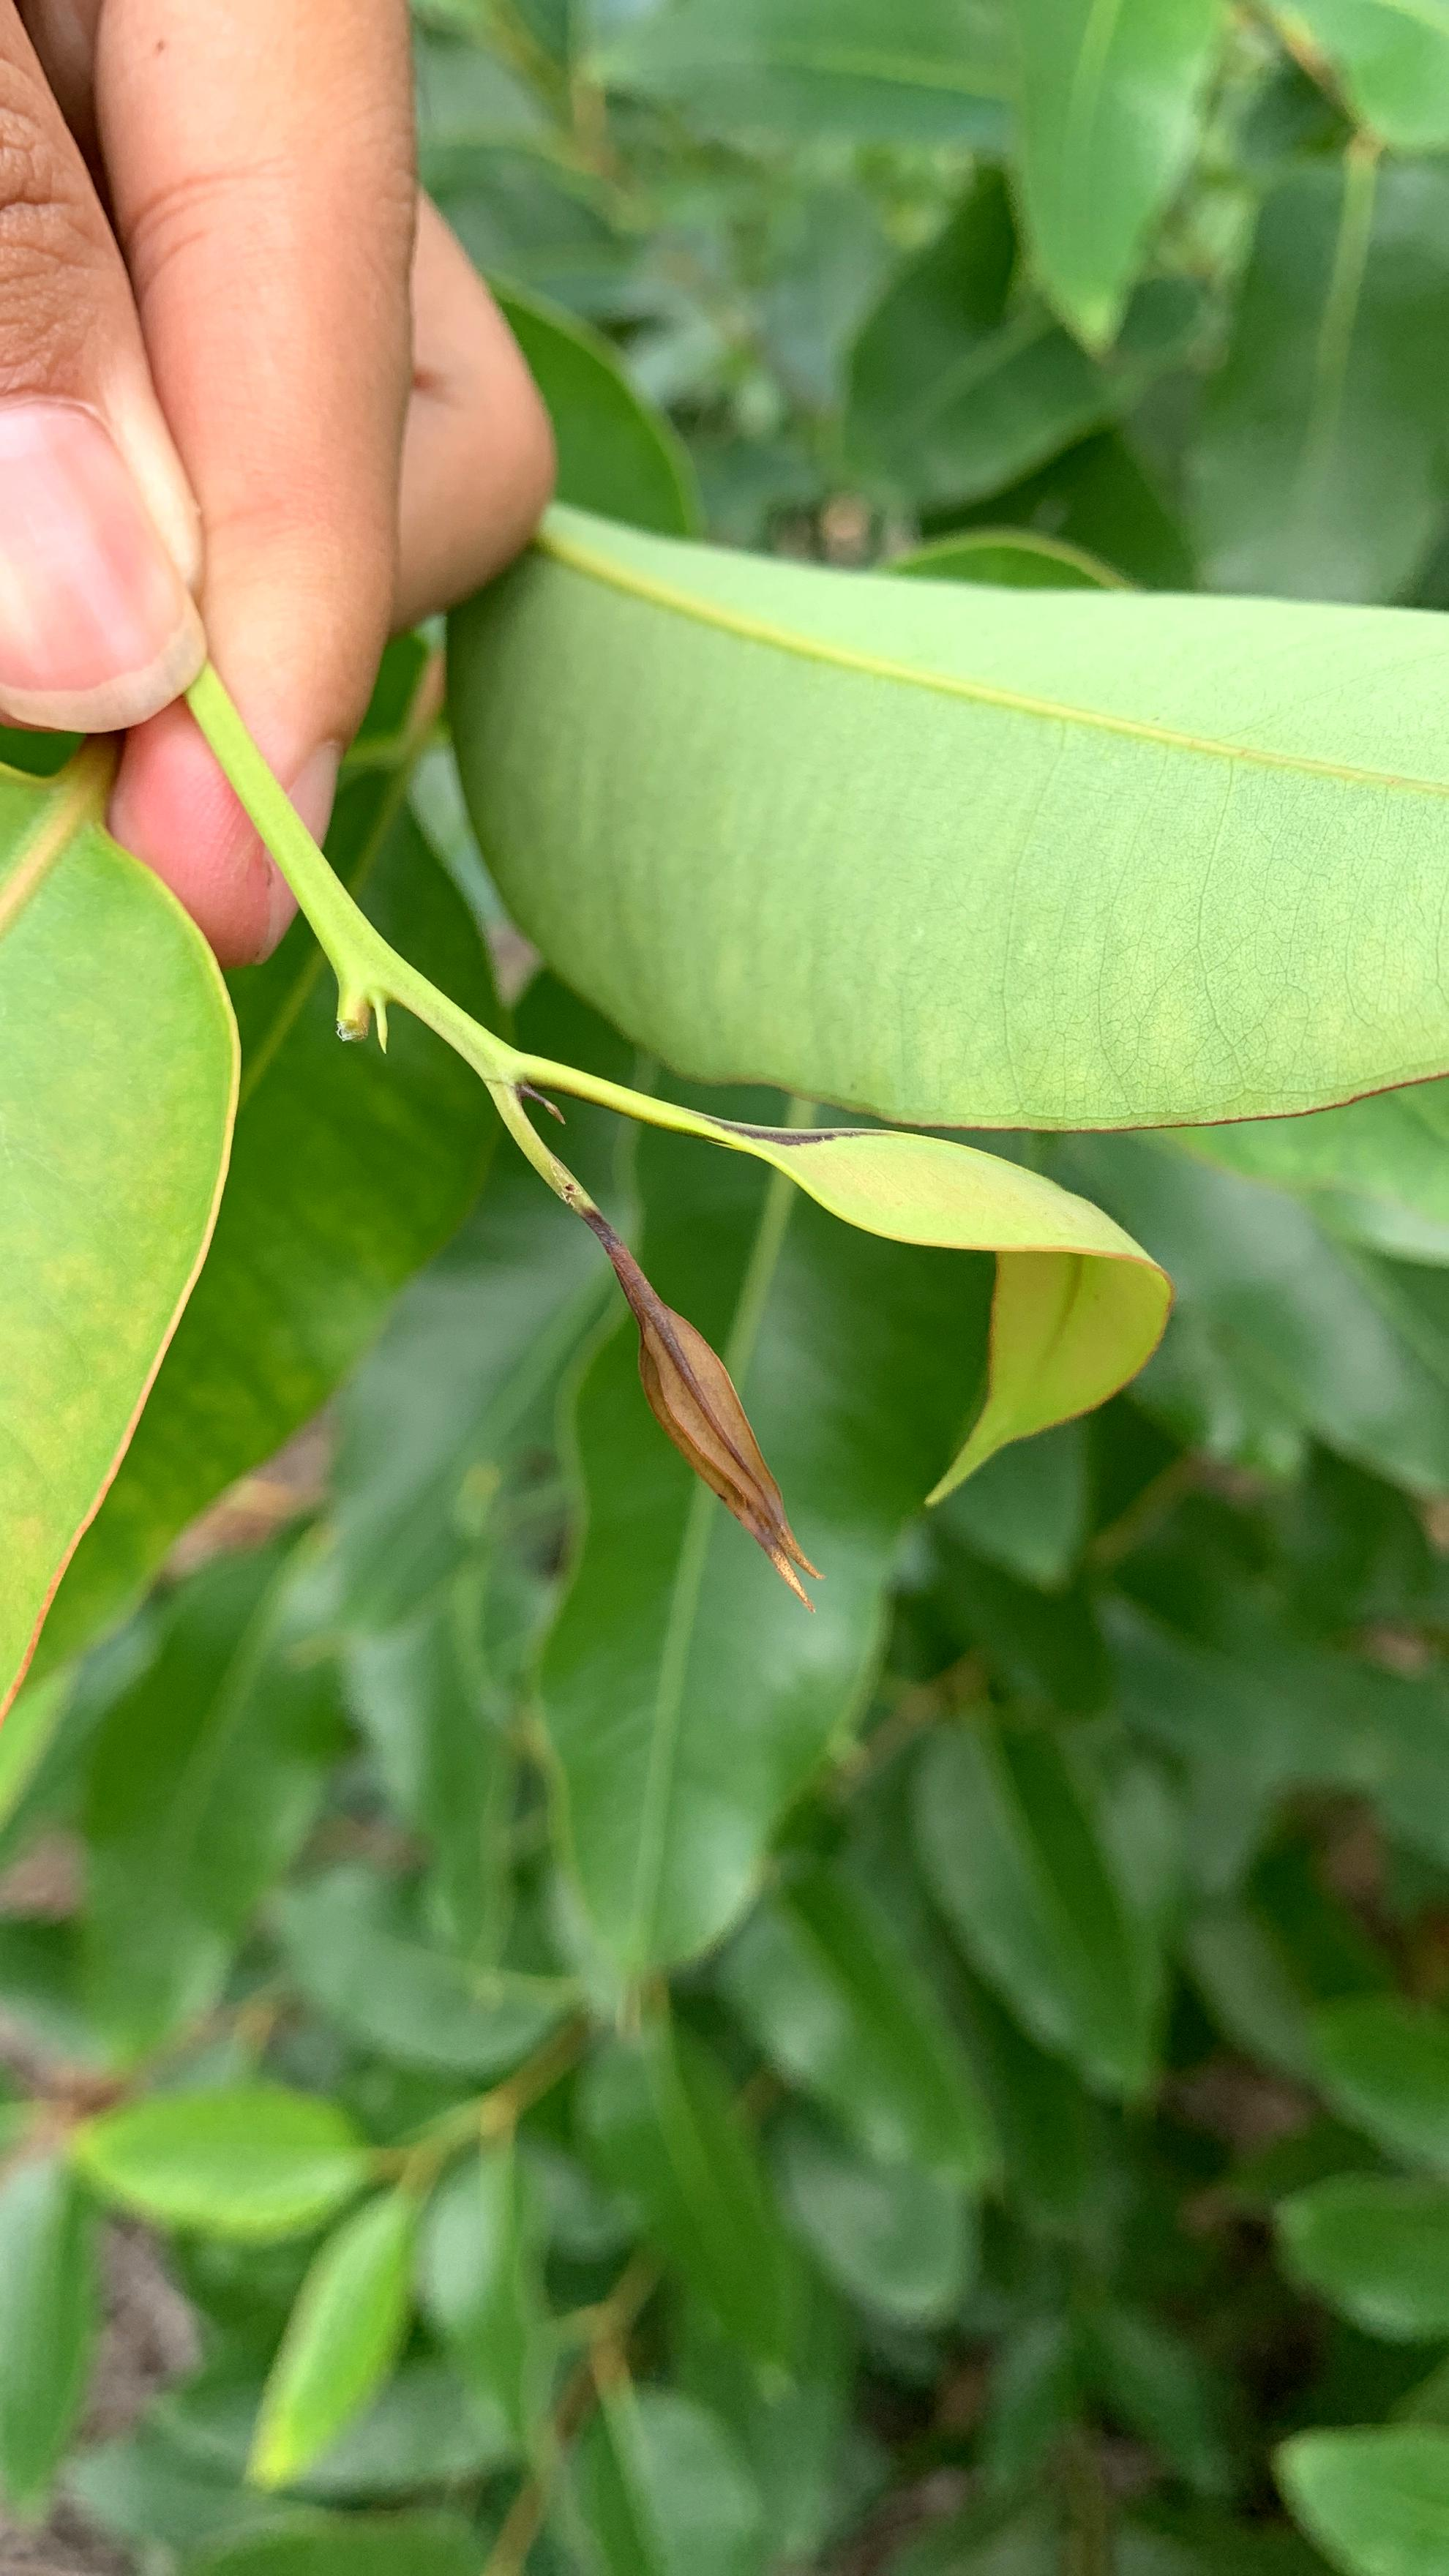Helopeltis-Withered Sprout: (522, 1238, 881, 1635)
